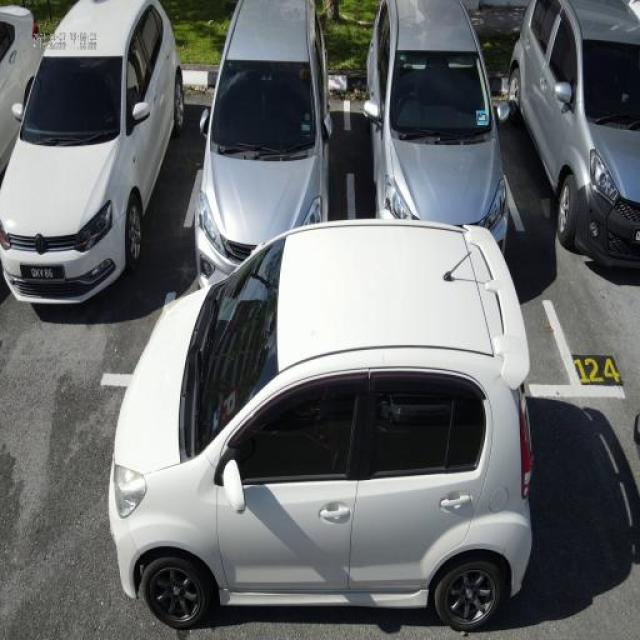Legalparking: (0, 0, 184, 300), (195, 0, 330, 285), (500, 0, 639, 265), (364, 0, 506, 241)
illegalparking: (109, 220, 531, 630)
